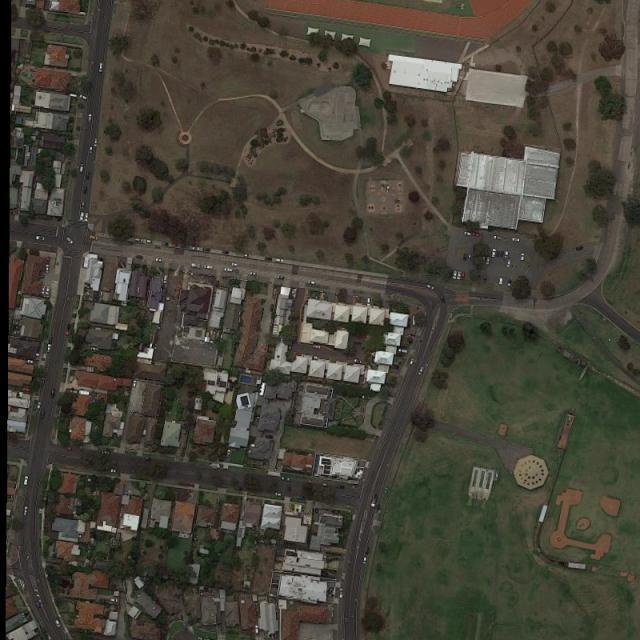vehicle: (371, 494, 378, 508), (418, 365, 426, 377), (426, 283, 436, 291), (23, 475, 30, 486), (22, 506, 29, 517), (66, 236, 74, 245), (398, 348, 409, 354), (353, 358, 362, 365), (90, 346, 100, 352), (203, 246, 213, 252), (35, 600, 42, 608), (79, 163, 84, 174), (190, 246, 201, 251), (274, 258, 285, 263), (94, 138, 99, 149), (98, 63, 103, 74), (39, 410, 45, 419), (55, 618, 61, 627), (473, 232, 482, 238), (494, 235, 503, 241), (339, 588, 344, 598), (47, 343, 52, 353), (85, 212, 90, 222), (224, 268, 234, 273), (457, 271, 462, 281), (468, 253, 473, 263), (80, 210, 84, 222), (203, 265, 215, 269), (308, 281, 317, 286), (36, 236, 45, 241), (521, 253, 526, 262), (453, 270, 458, 279), (482, 274, 487, 283), (498, 277, 503, 286), (506, 260, 511, 269), (492, 249, 497, 258), (574, 246, 583, 251), (83, 185, 88, 194), (110, 469, 120, 473), (312, 346, 322, 350), (409, 358, 414, 366), (37, 402, 42, 410), (50, 389, 54, 399), (230, 262, 240, 266), (155, 258, 165, 262), (464, 232, 472, 237), (461, 273, 466, 281), (486, 257, 491, 265), (363, 556, 367, 565), (254, 625, 258, 634), (146, 239, 155, 243), (46, 265, 50, 274), (46, 286, 50, 295), (134, 238, 143, 242), (161, 242, 170, 246), (221, 250, 230, 254), (463, 254, 467, 263), (512, 238, 521, 242), (80, 94, 86, 100), (86, 171, 90, 180), (338, 485, 346, 489), (227, 450, 231, 458), (27, 361, 35, 365), (133, 381, 137, 389), (110, 598, 118, 602), (367, 298, 371, 306), (89, 146, 93, 154), (250, 272, 260, 275), (82, 200, 85, 210), (243, 254, 250, 258), (102, 451, 111, 454), (164, 275, 167, 284), (282, 478, 290, 481), (274, 494, 282, 497), (277, 276, 285, 279), (42, 286, 45, 294), (89, 114, 92, 122), (506, 250, 509, 258), (501, 250, 504, 258), (497, 250, 500, 258)
